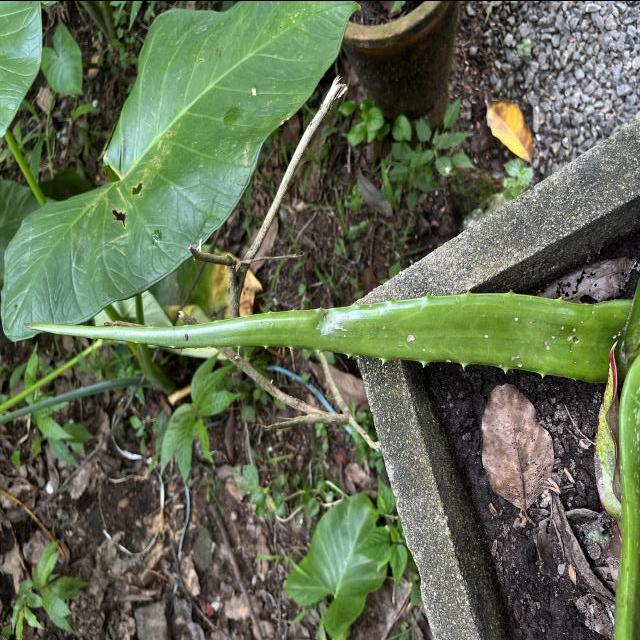Aloe vera: (20, 278, 628, 386)
